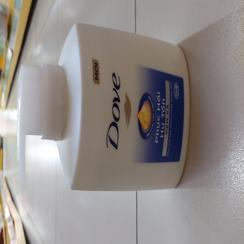dove: (12, 16, 192, 201)
